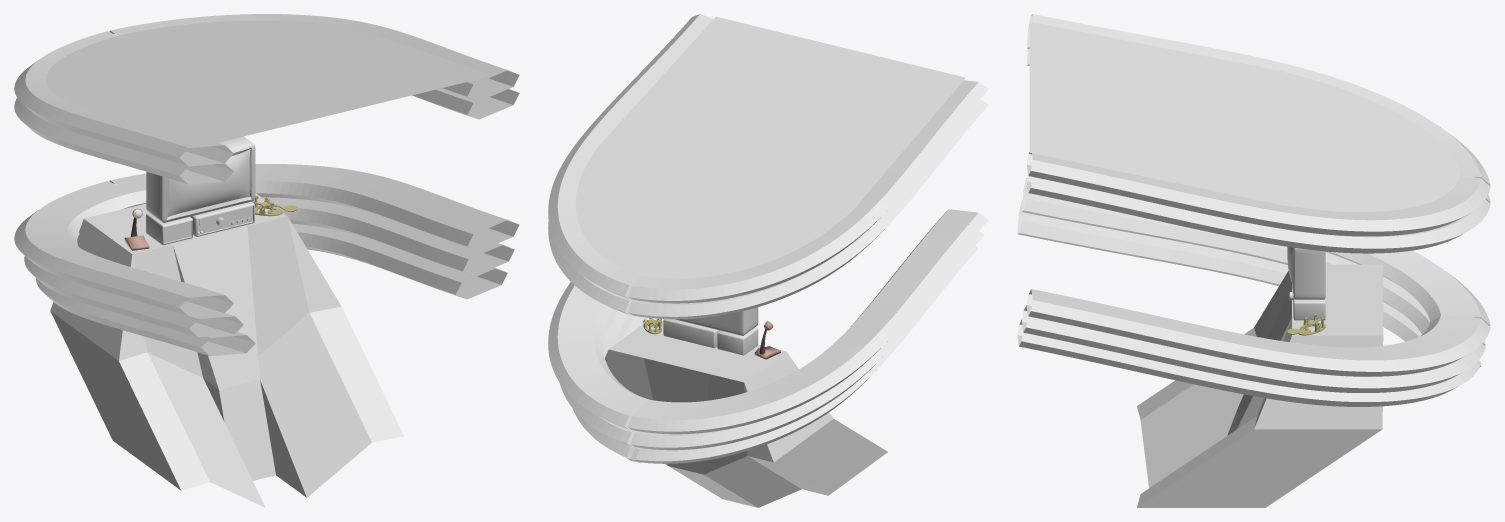
Rendered from ggj cockpit.fbx.
3 renders of one model, left to right at view 1: azimuth 30°, elevation 25°; view 2: azimuth 150°, elevation 25°; view 3: azimuth 270°, elevation 25°, orthographic. The views are drawn at different scales.
Visible parts, largest first — view 1: Cube, NurbsPath.005, NurbsPath.002, NurbsPath.004, NurbsPath.000, NurbsPath.001, NurbsPath.003, TV, Untitled, ChamferBox002; view 2: NurbsPath.005, NurbsPath.002, Cube, NurbsPath.004, NurbsPath.003, NurbsPath.000, NurbsPath.001, TV, Untitled, ChamferBox002; view 3: NurbsPath.005, Cube, NurbsPath.002, NurbsPath.004, NurbsPath.000, NurbsPath.001, NurbsPath.003, TV, Untitled.
Part boxes in pixels (bbox=[...]): Cube: bbox=[50, 193, 404, 507]; NurbsPath.005: bbox=[46, 20, 493, 145]; NurbsPath.002: bbox=[14, 164, 519, 315]; NurbsPath.004: bbox=[14, 14, 519, 166]; NurbsPath.000: bbox=[24, 197, 514, 337]; NurbsPath.001: bbox=[36, 223, 507, 356]; NurbsPath.003: bbox=[14, 88, 519, 184]; TV: bbox=[146, 136, 255, 222]; Untitled: bbox=[190, 201, 254, 236]; ChamferBox002: bbox=[146, 213, 192, 245]; NurbsPath.005: bbox=[575, 16, 965, 278]; NurbsPath.002: bbox=[548, 209, 988, 434]; Cube: bbox=[604, 319, 887, 507]; NurbsPath.004: bbox=[548, 14, 988, 303]; NurbsPath.003: bbox=[548, 99, 988, 319]; NurbsPath.000: bbox=[559, 231, 984, 450]; NurbsPath.001: bbox=[573, 246, 978, 463]; TV: bbox=[675, 307, 758, 335]; Untitled: bbox=[663, 319, 719, 348]; ChamferBox002: bbox=[717, 327, 758, 355]; NurbsPath.005: bbox=[1029, 21, 1460, 212]; Cube: bbox=[1137, 264, 1383, 507]; NurbsPath.002: bbox=[1026, 173, 1490, 376]; NurbsPath.004: bbox=[1026, 14, 1490, 236]; NurbsPath.000: bbox=[1022, 178, 1485, 392]; NurbsPath.001: bbox=[1017, 200, 1481, 406]; NurbsPath.003: bbox=[1026, 49, 1490, 253]; TV: bbox=[1287, 246, 1325, 299]; Untitled: bbox=[1289, 292, 1325, 320].
Size of the model in its own units: 1584 by 1894 by 1975.
